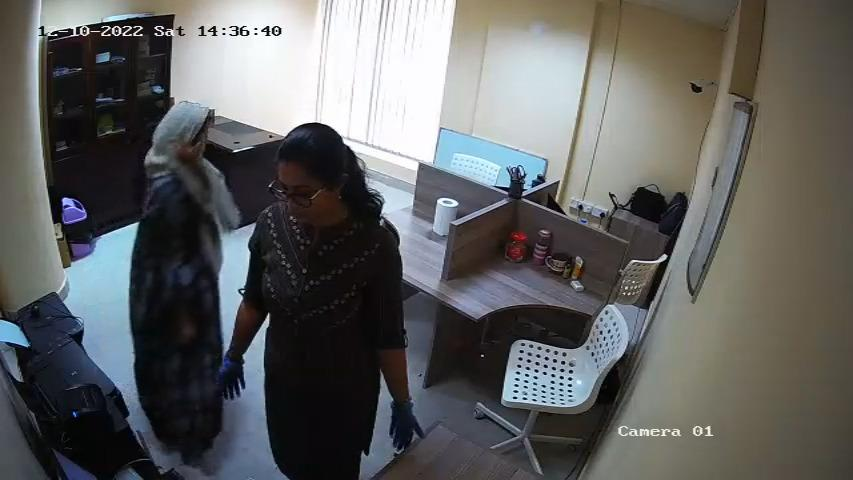gloves: (387, 398, 426, 453), (216, 346, 249, 399)
